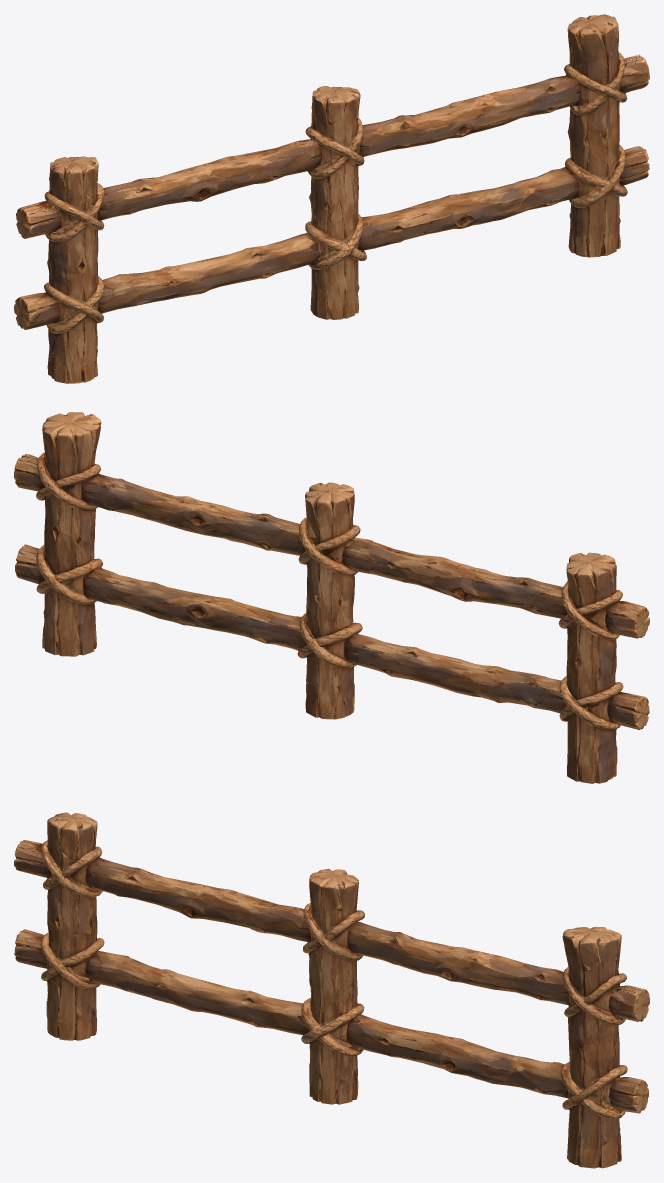
The model's file is fence.glb.
The picture shows the model from 3 angles, top to bottom: view 1: azimuth 30°, elevation 25°; view 2: azimuth 150°, elevation 25°; view 3: azimuth 330°, elevation 25°; orthographic projection.
Bounding box in the file's own units: 1.9 × 0.6601 × 0.1757.
1 material, 1 textured.
